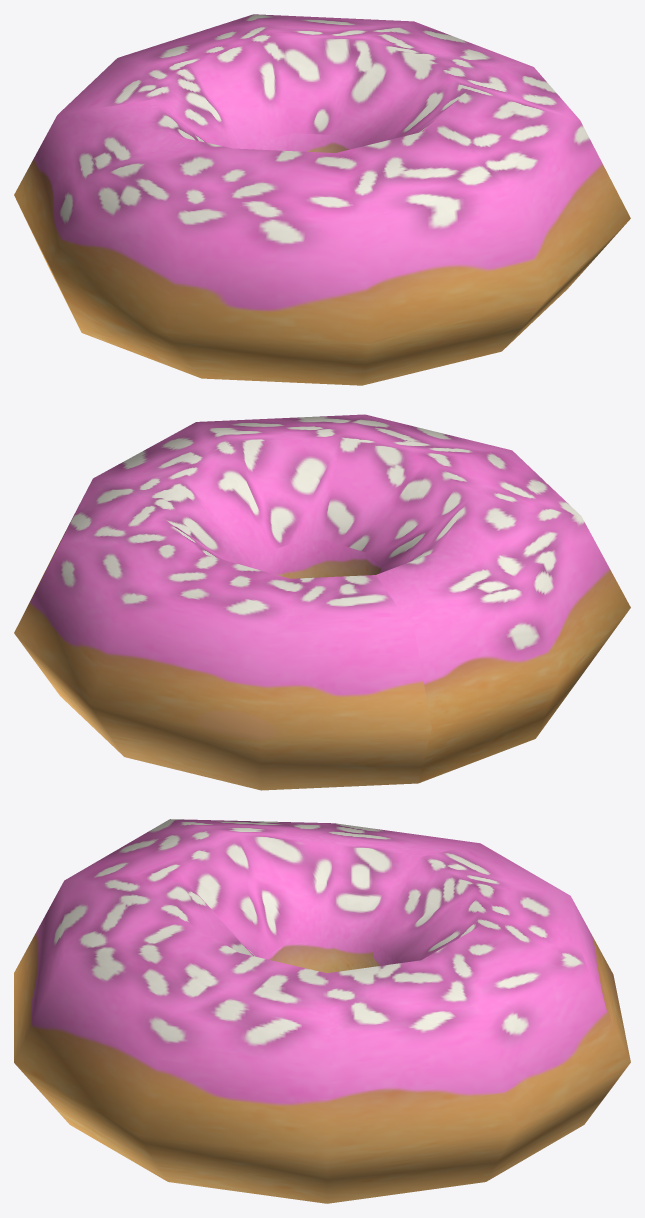
Rendered from doughnut.fbx.
3 views of the same model, one above another, from view 1: azimuth 30°, elevation 25°; view 2: azimuth 150°, elevation 25°; view 3: azimuth 270°, elevation 25° (orthographic). The views are drawn at different scales.
Parts seen in each view (by area): view 1: Torus.002; view 2: Torus.002; view 3: Torus.002.
Boxes of the visible parts, x1=… form: Torus.002: x1=14, y1=14, x2=630, y2=385; Torus.002: x1=14, y1=414, x2=630, y2=790; Torus.002: x1=14, y1=819, x2=630, y2=1203.
Size of the model in its own units: 148 by 56.2 by 147.
